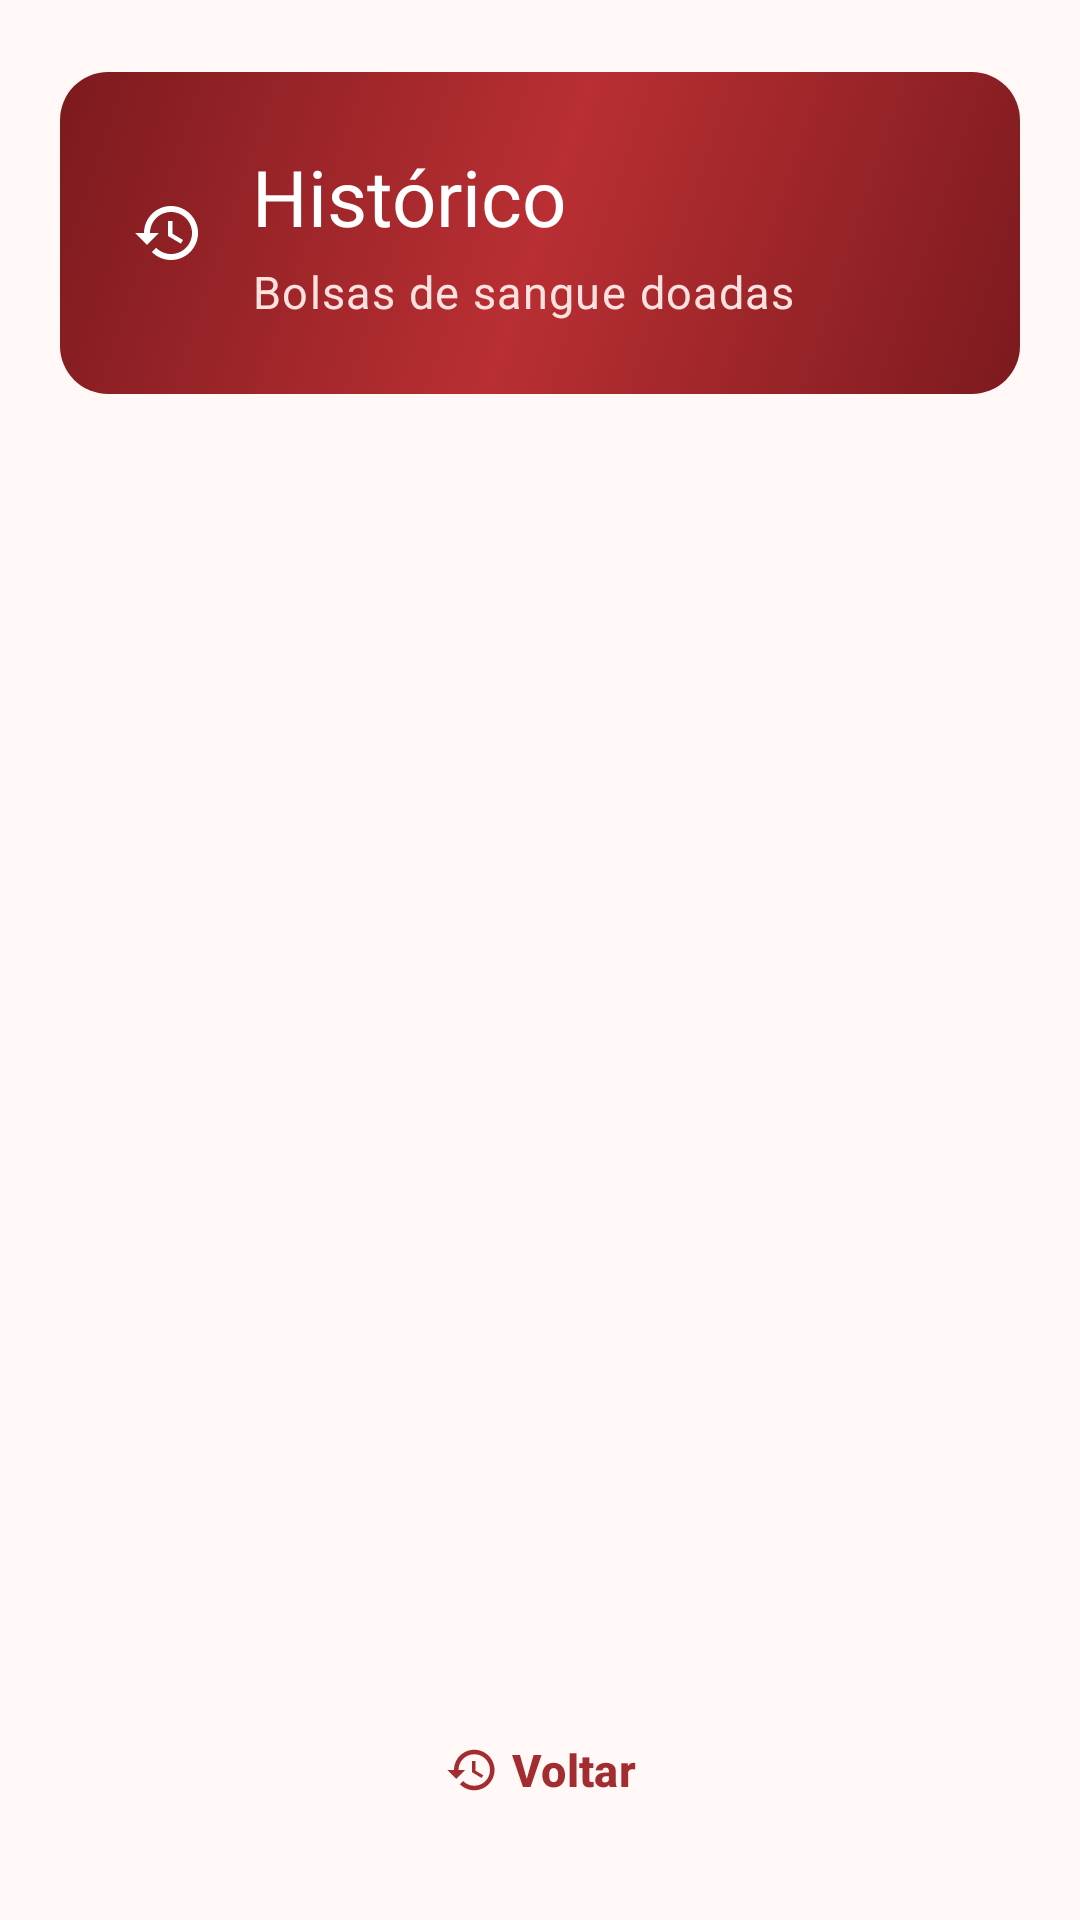

Icons on this 1080 × 1920 Android screen, each with the point to tap as [x,y]:
history: [166,233]
